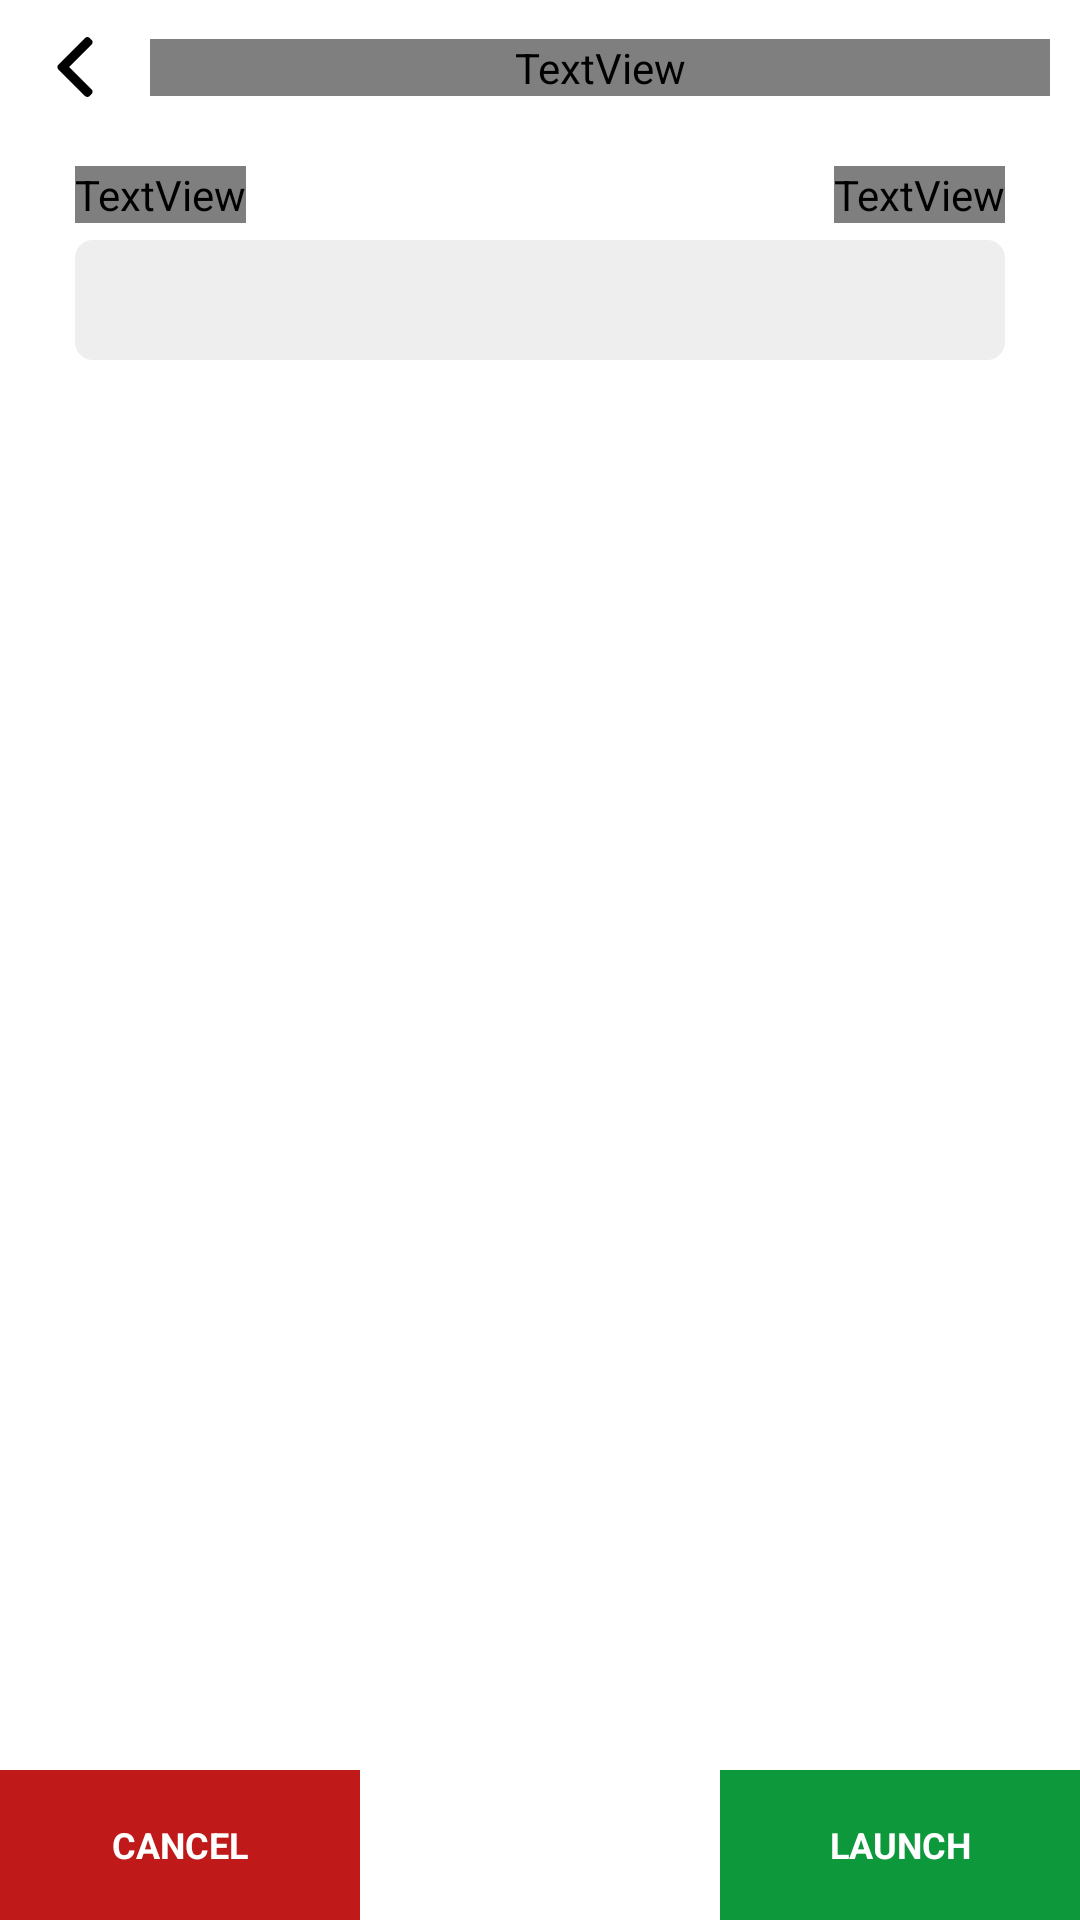

Screen size 1080 × 1920. Icon name, then its box in pixels as (x1, y1, x2, y2):
back: (57, 37, 93, 97)
